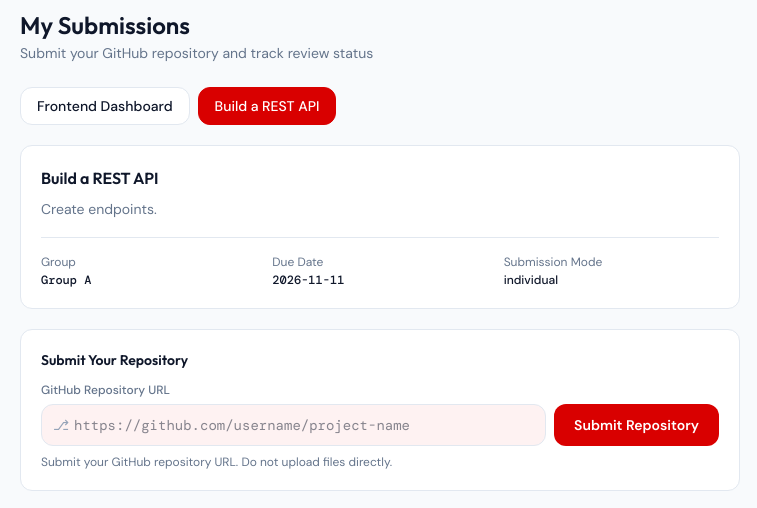
StudentSubmissions › switches assessments when clicking a different tab
Check: the heading "Build a REST API" is shown, box [41,166,158,190]
Click the button "Frontend Dashboard": (105, 106) [20,87,190,125]
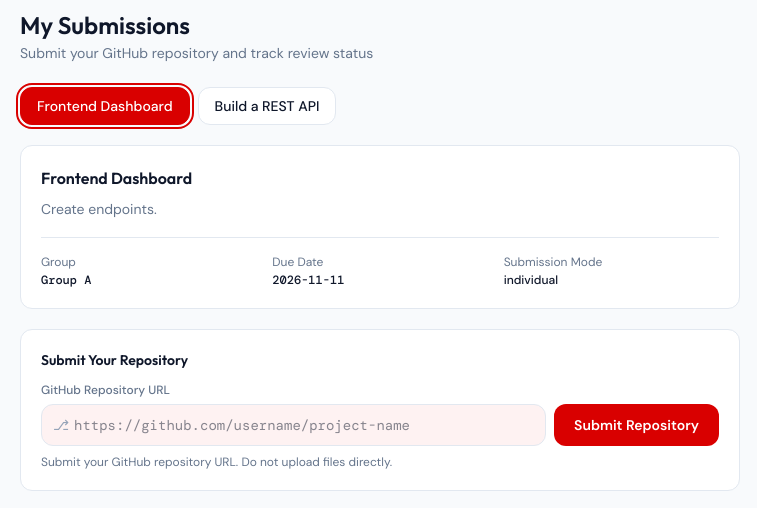
Check: the heading "Frontend Dashboard" is shown, box [41,166,192,190]
